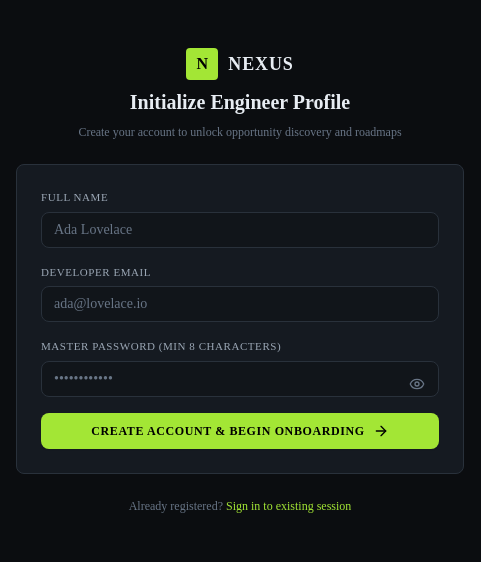
Test: Authentication Forms › validates short password on registration
In the field labelled "Full Name": (240, 230) x1=41 y1=212 x2=439 y2=248, type "Linus Torvalds"
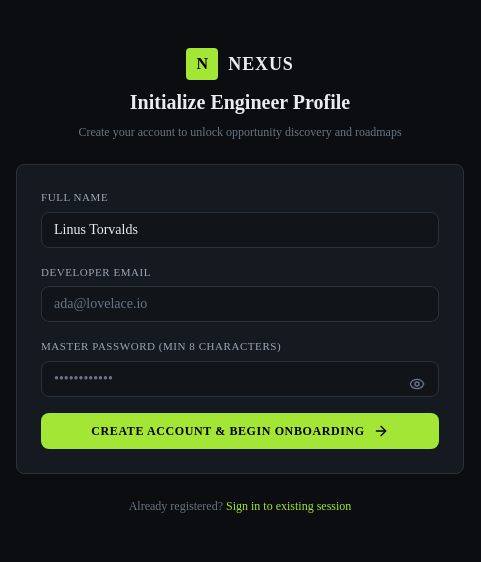
In the field labelled "Developer Email": (240, 304) x1=41 y1=286 x2=439 y2=322, type "linus@kernel.org"
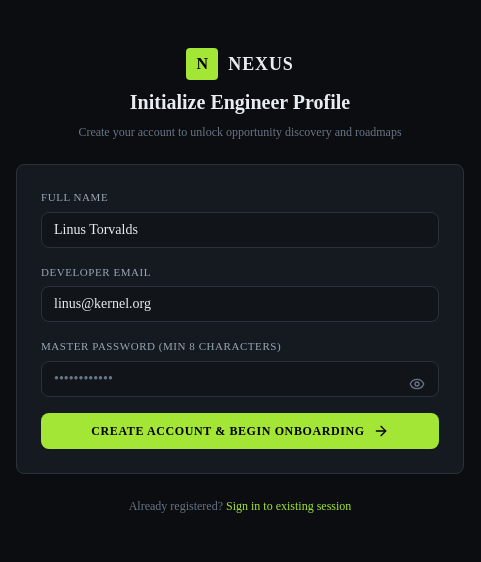
In the password field labelled "Master Password (min 8 characters)": (240, 379) x1=41 y1=361 x2=439 y2=397, type "short"
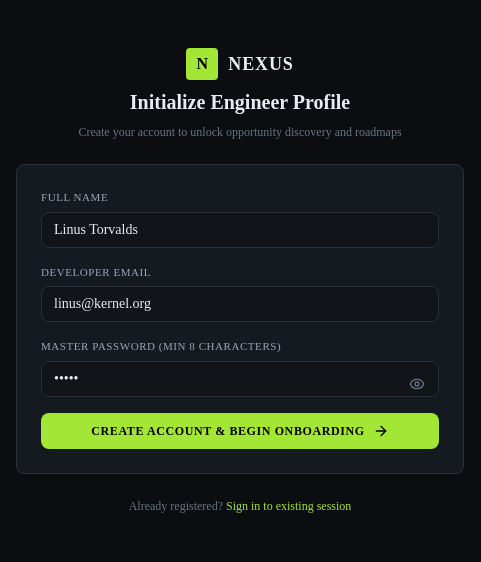
Click the button "Create Account & Begin Onboarding": click(240, 431) x1=41 y1=413 x2=439 y2=449
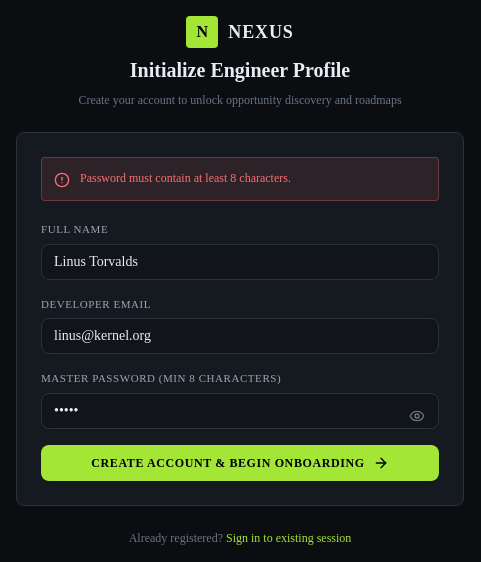
Result: the text "Password must contain at least 8 characters." is shown at x1=80 y1=170 x2=291 y2=186
